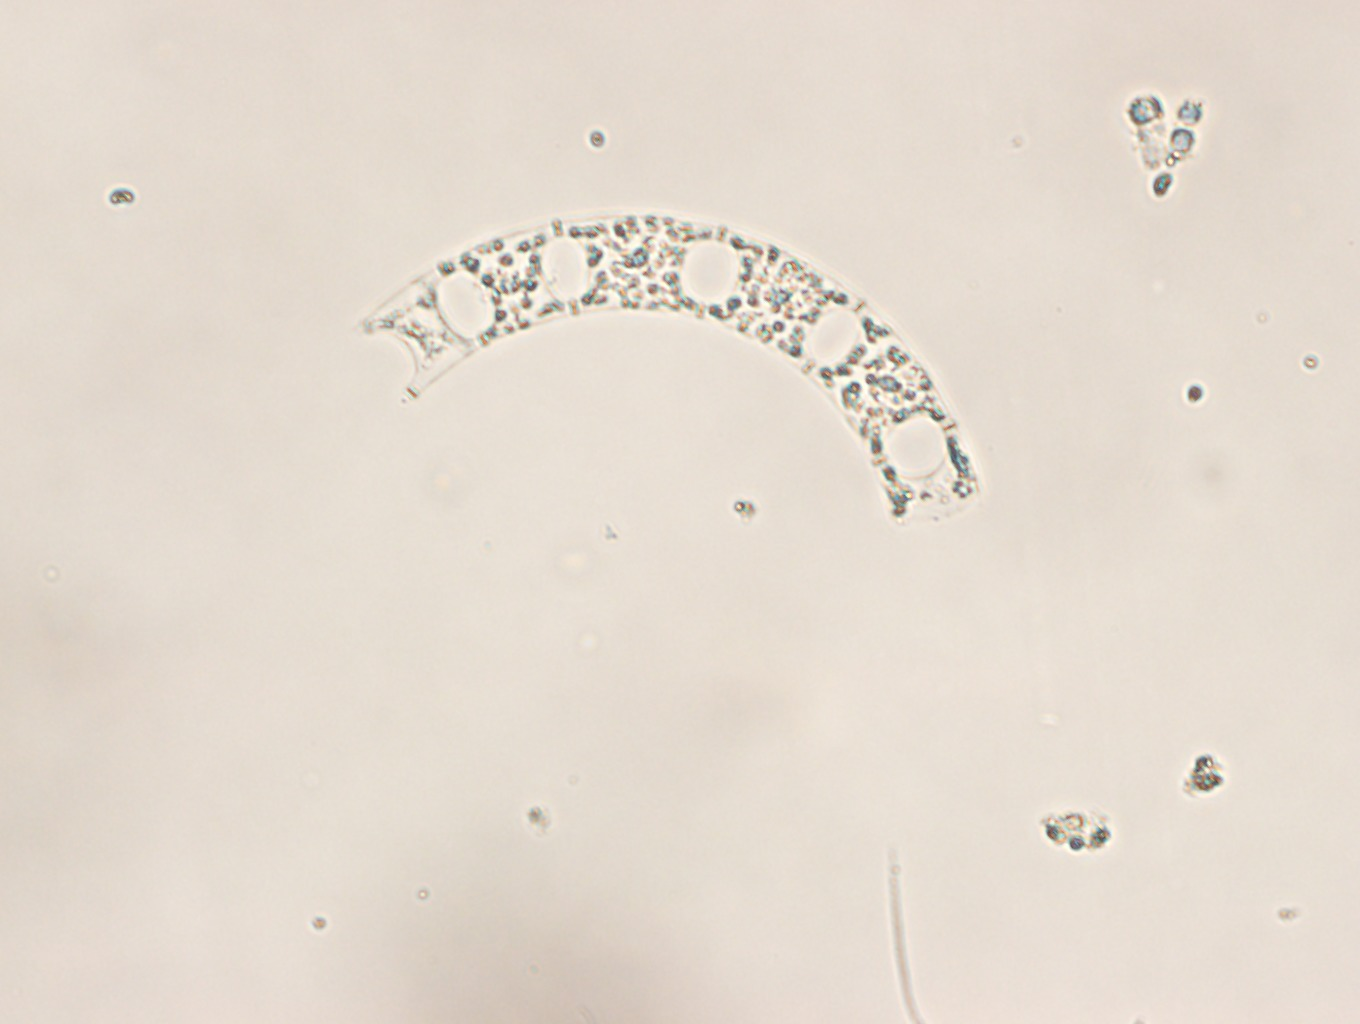eucampia: (349, 208, 982, 523)
